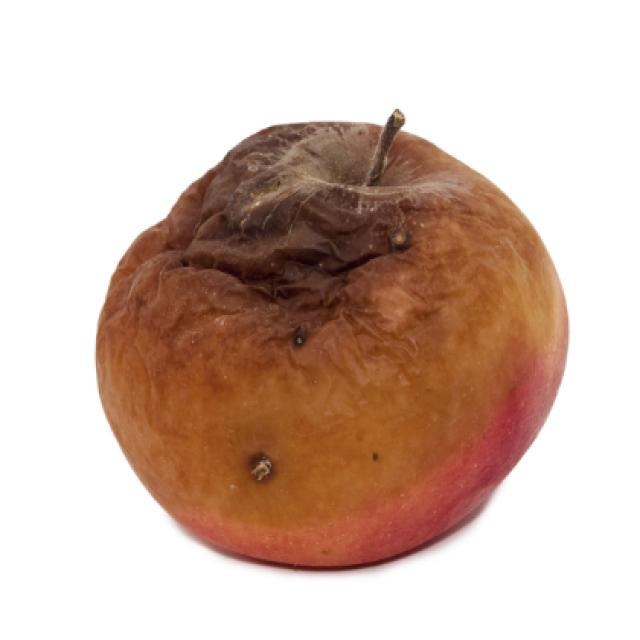rotten_apple: (94, 112, 571, 570)
